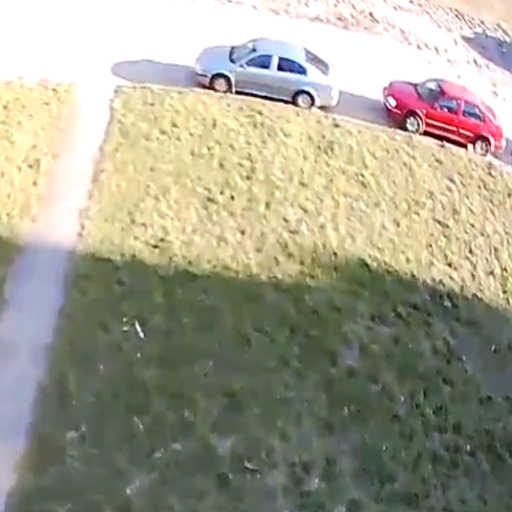Car: (382, 72, 505, 154), (193, 35, 336, 105)
